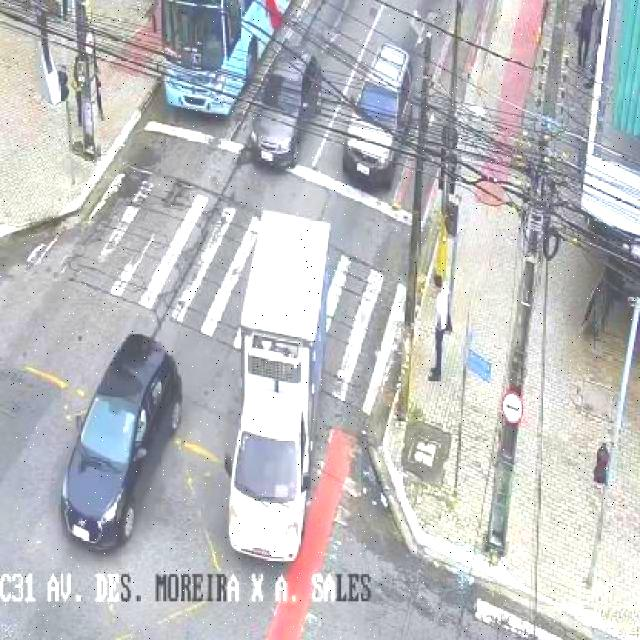Bus: (150, 0, 294, 115)
Car: (61, 331, 182, 554), (340, 43, 415, 191), (247, 49, 322, 171)
Truck: (222, 209, 334, 560)
